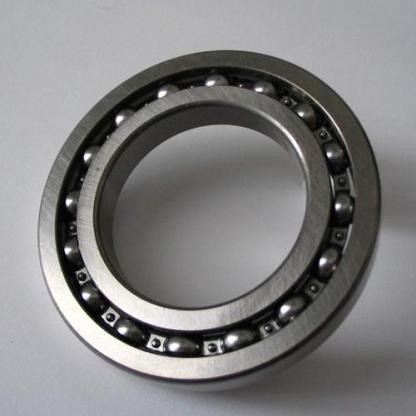FOD: (30, 43, 387, 400)
